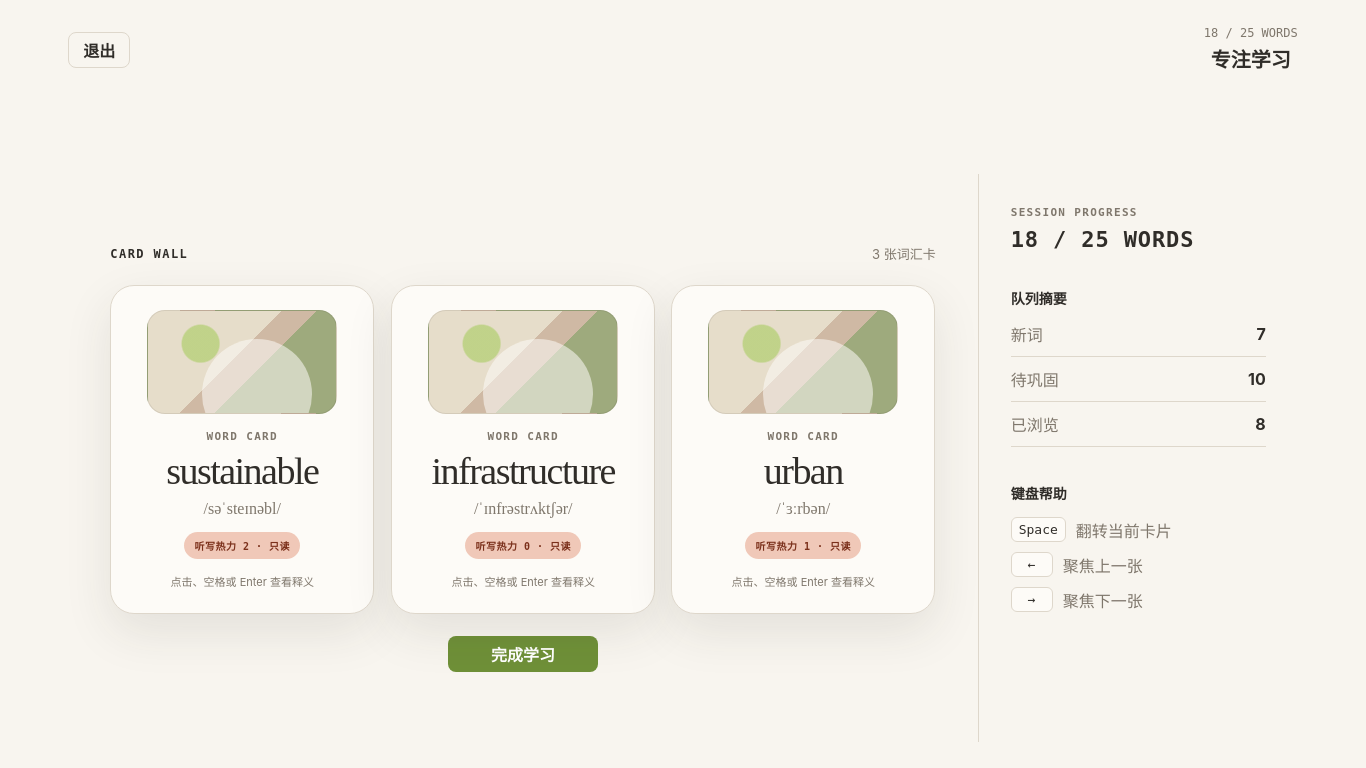
Test: 点击与聚焦卡片后的 Enter 各翻转一次
Click the button with aria-label "翻转 sustainable 学习卡查看释义": (243,450) [110, 285, 375, 614]
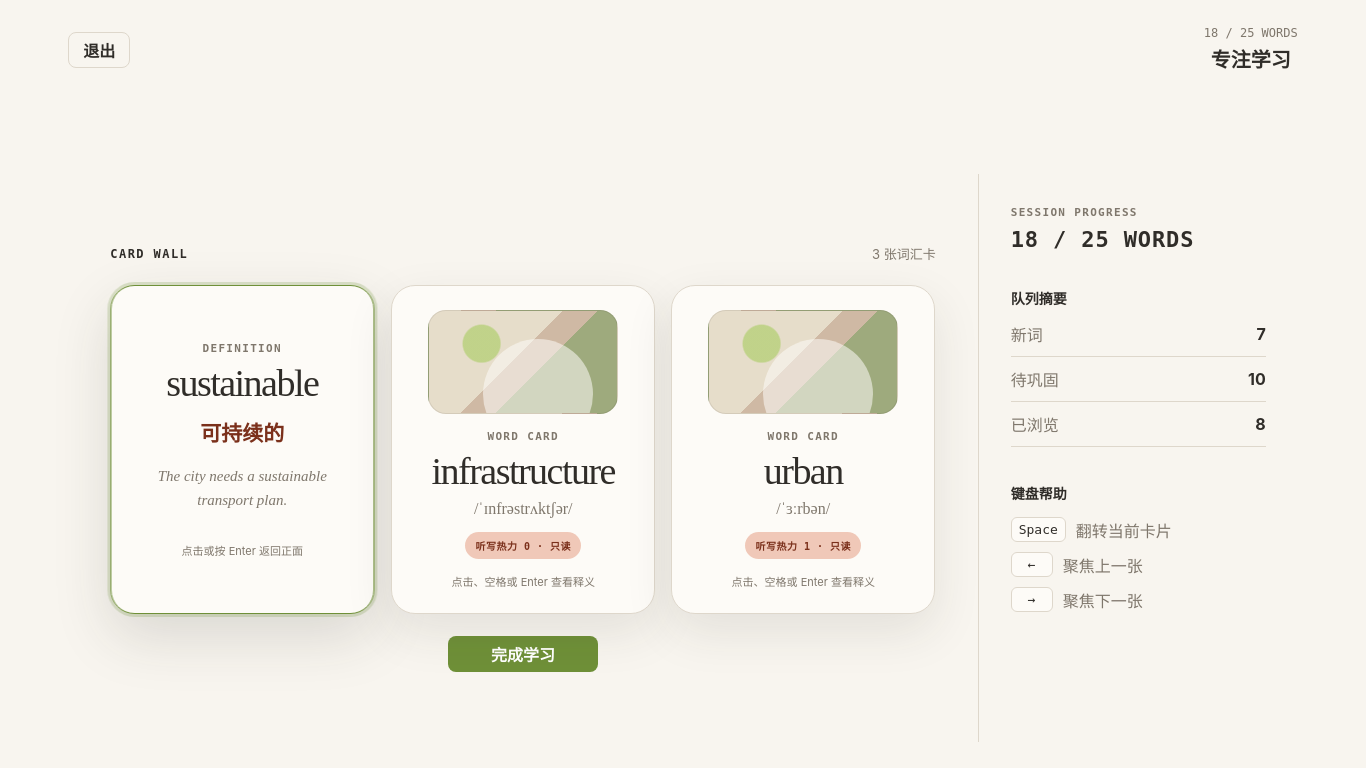
Expected: the text "可持续的" is shown, [200, 420, 284, 448]
Press Enter
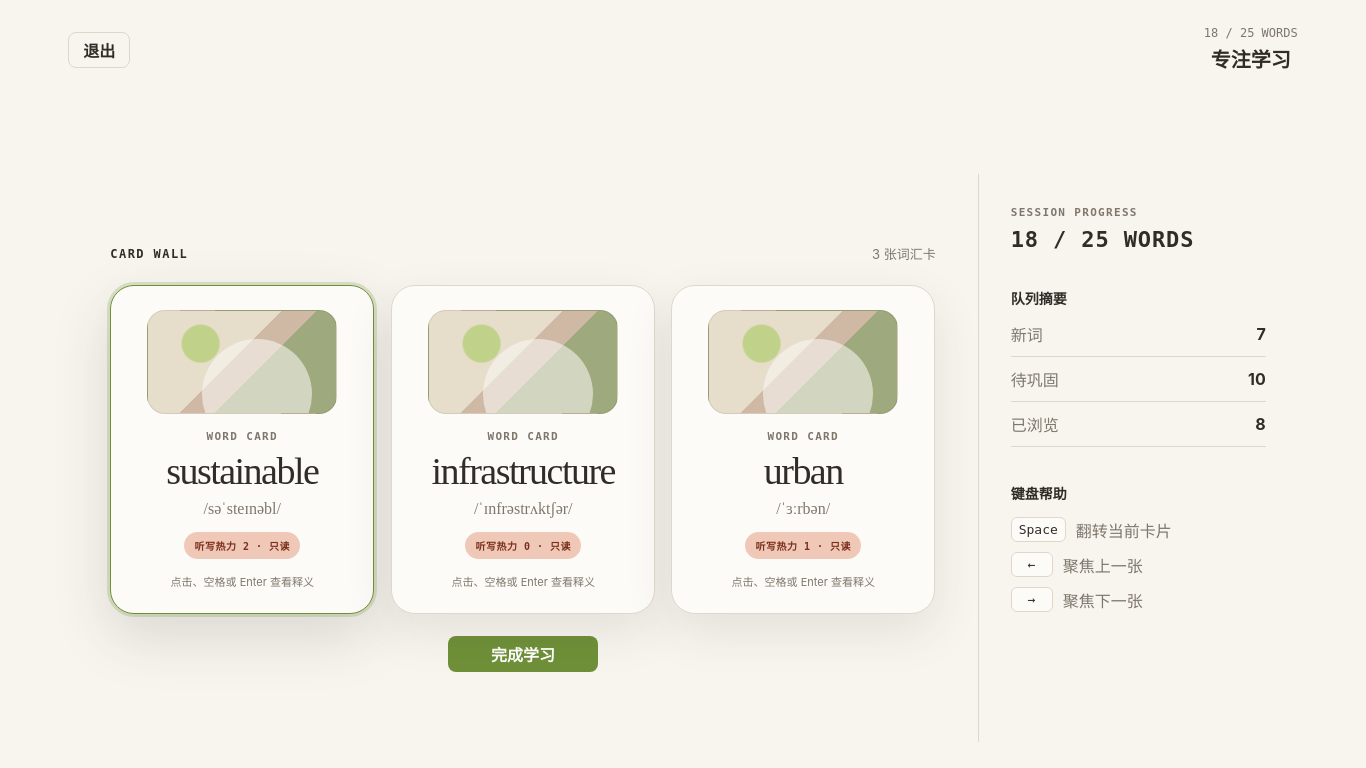
Expected: the text "可持续的" is gone
